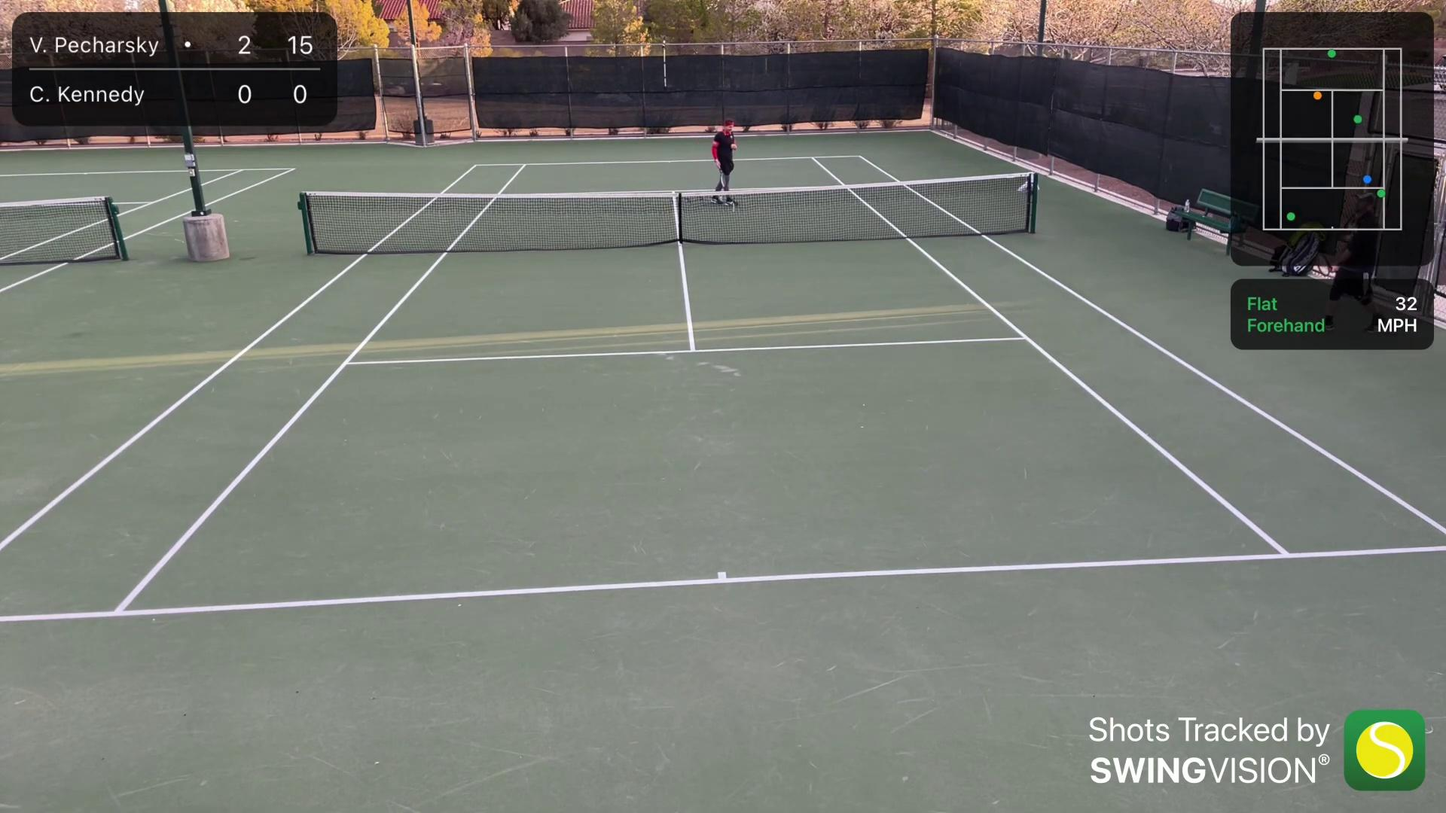ball: (730, 143, 735, 150)
